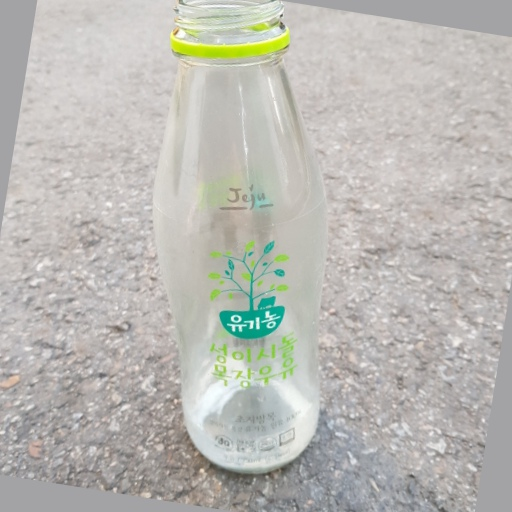Glass_4: (149, 1, 331, 475)
